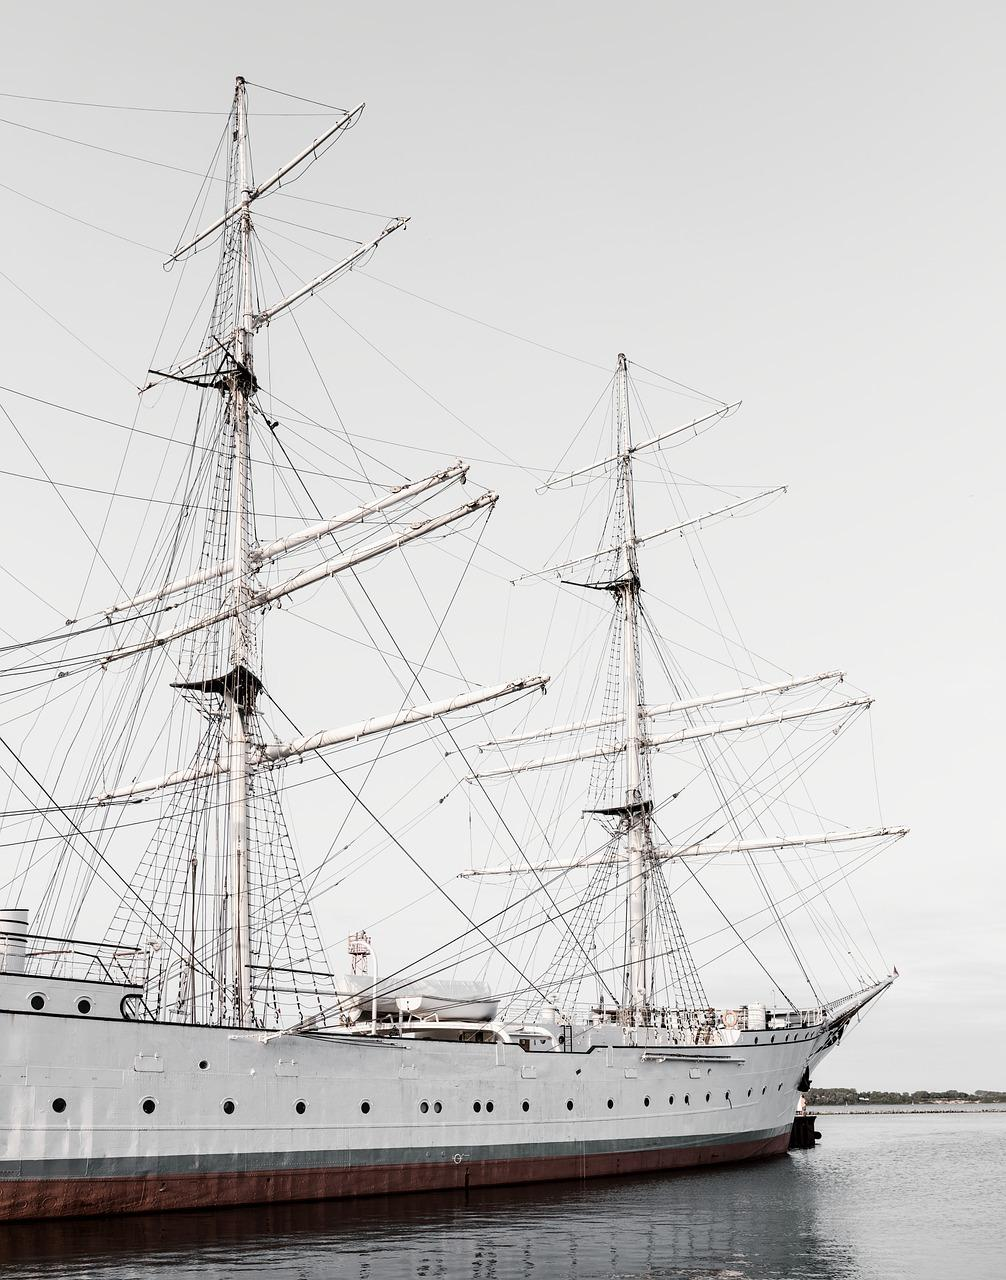Ship: (1, 79, 904, 1220)
